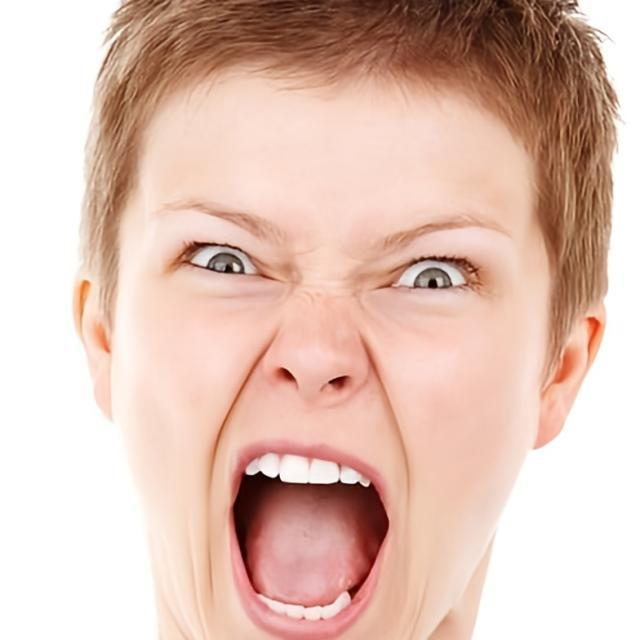anger: (112, 33, 554, 634)
